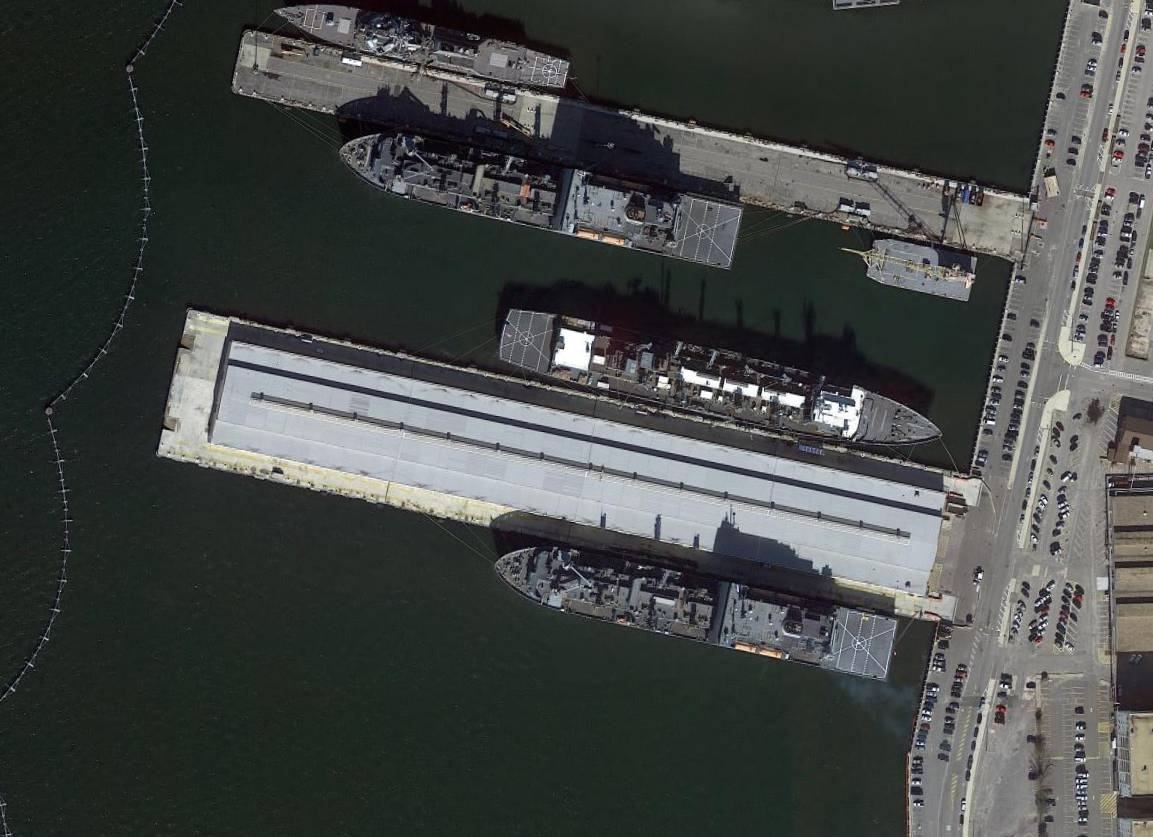harbor: (157, 307, 972, 626), (229, 27, 1033, 265)
ship: (494, 303, 946, 461), (330, 120, 744, 273), (490, 538, 898, 683), (307, 2, 571, 92), (865, 240, 978, 305)
